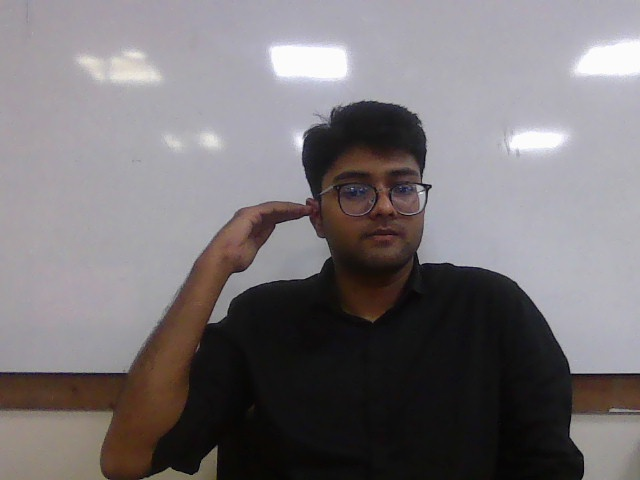Prottibondhi: (208, 199, 317, 274)
